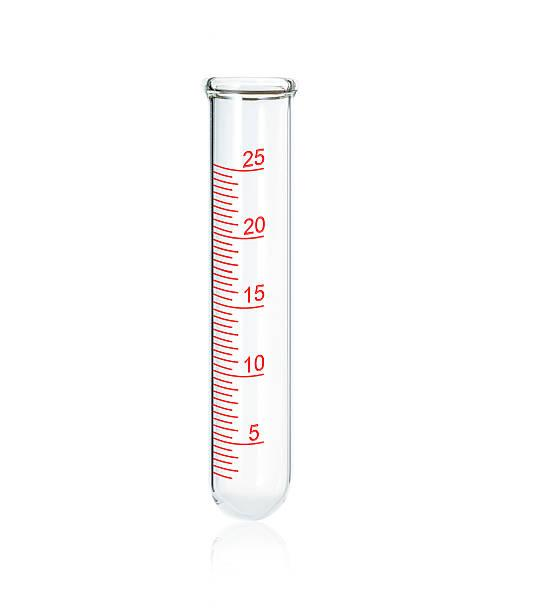Test tube: (198, 58, 307, 531)
